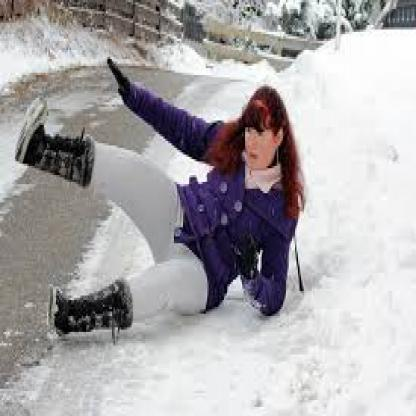Fall_Down: (14, 55, 301, 338)
